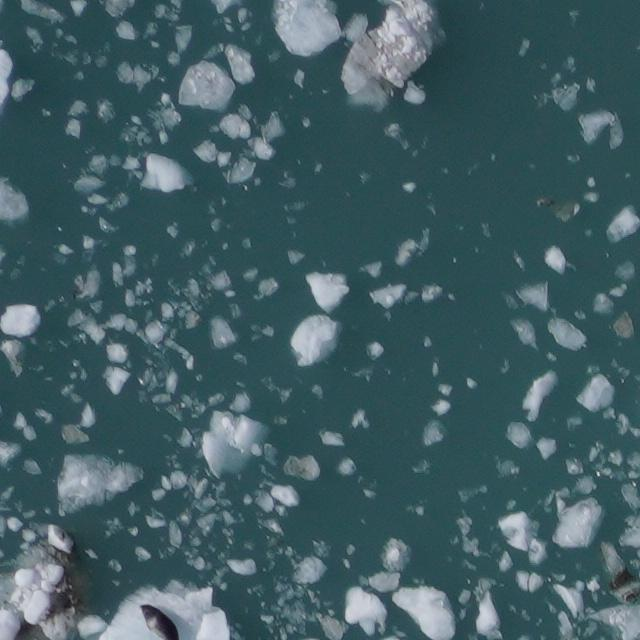seal: (131, 597, 185, 640)
